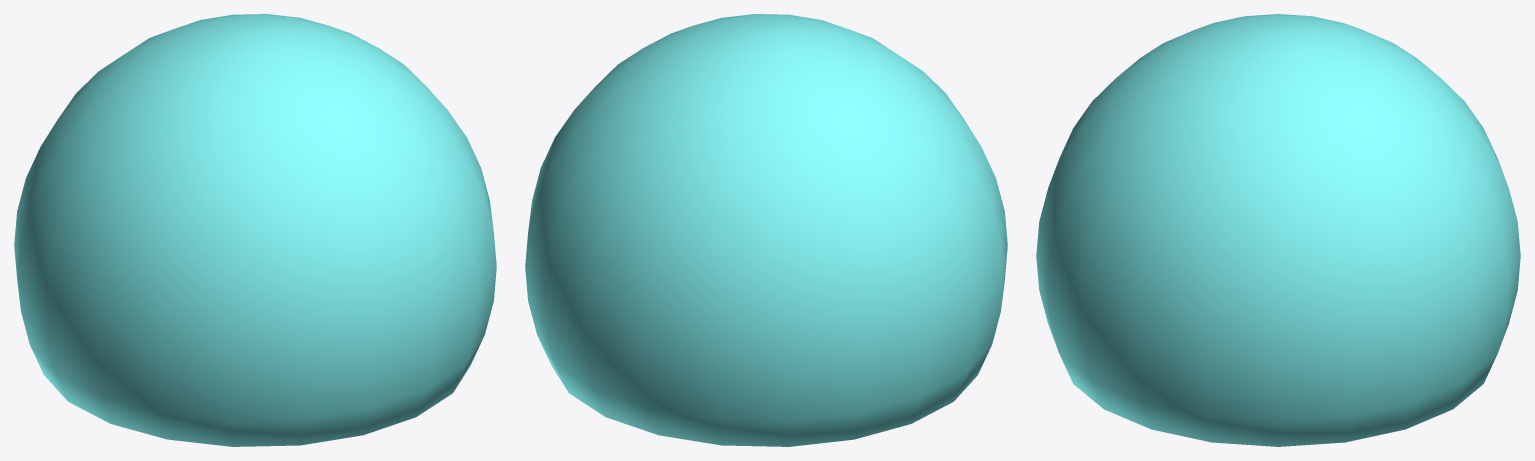
Rendered from slime1.fbx.
3 views of the same model, side by side, from view 1: azimuth 30°, elevation 25°; view 2: azimuth 150°, elevation 25°; view 3: azimuth 270°, elevation 25° (orthographic).
Visible parts, largest first — view 1: pSphere7; view 2: pSphere7; view 3: pSphere7.
Boxes of the visible parts, <box> form: pSphere7: <box>14,14,496,446</box>; pSphere7: <box>525,14,1007,446</box>; pSphere7: <box>1036,14,1520,446</box>.
Size of the model in its own units: 2 by 1.46 by 2.
